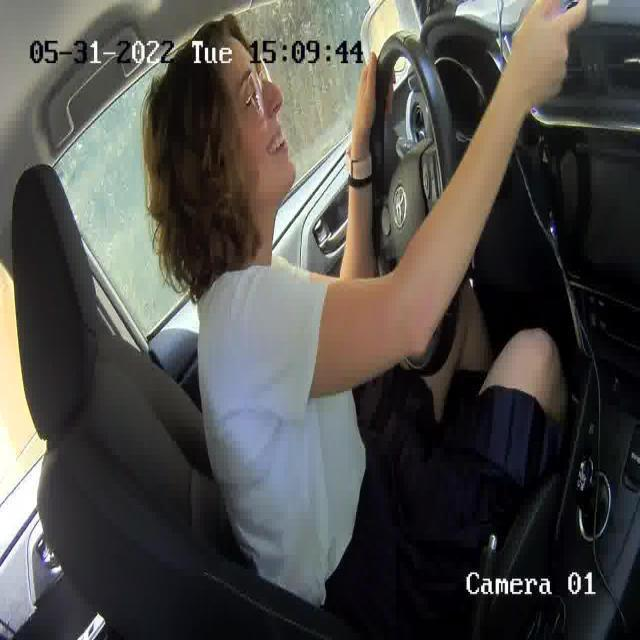Eye-Close: (241, 89, 264, 110)
Inattentive: (141, 13, 301, 235)
Normal: (265, 128, 290, 157)
